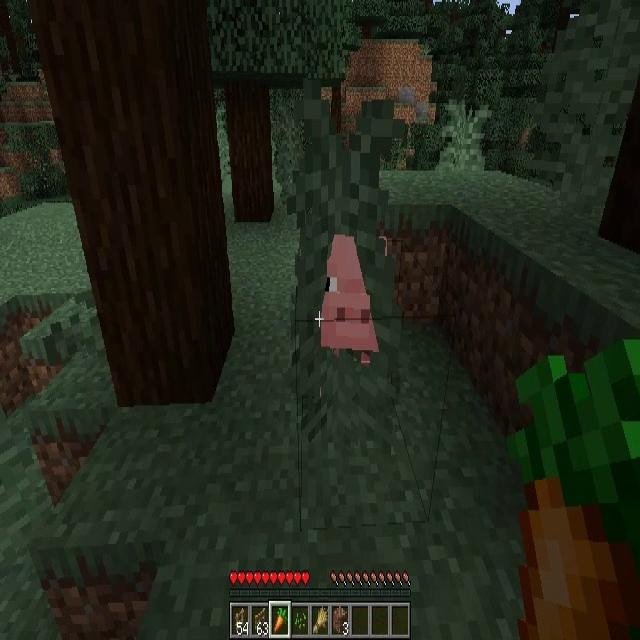pig: (321, 223, 382, 368)
